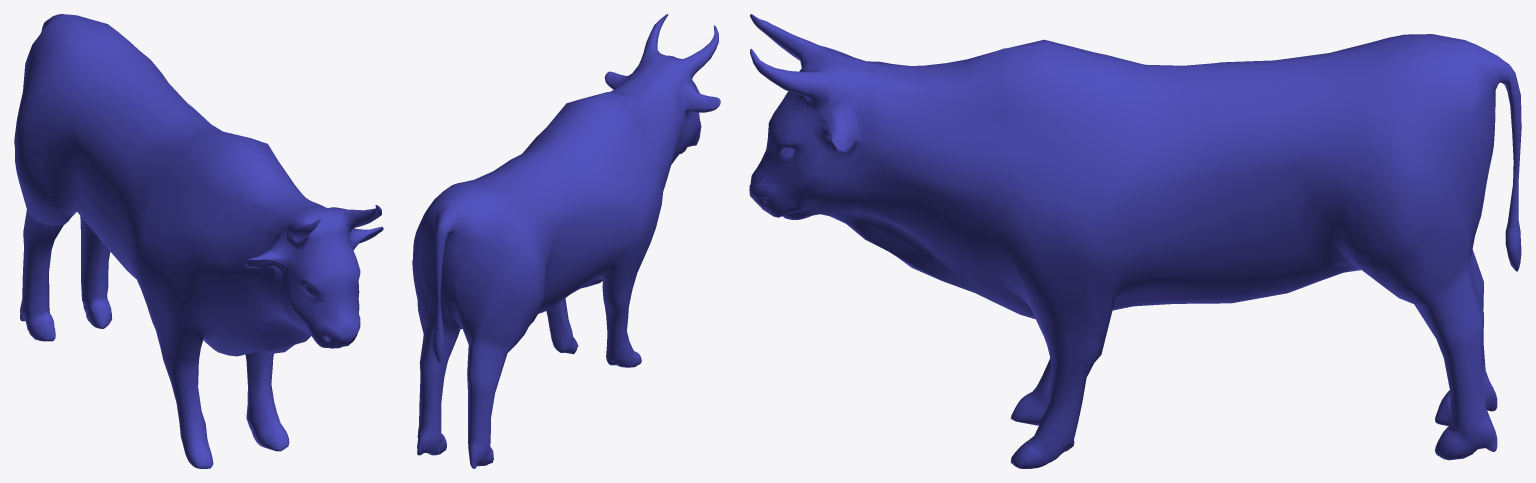
Rendered from Cow.fbx.
The picture shows the model from 3 angles, left to right: view 1: azimuth 30°, elevation 25°; view 2: azimuth 150°, elevation 25°; view 3: azimuth 270°, elevation 25°; orthographic projection. The views are drawn at different scales.
Visible parts, largest first — view 1: polySurface4.001; view 2: polySurface4.001; view 3: polySurface4.001.
Part boxes in pixels (x1=…): polySurface4.001: x1=14, y1=14, x2=383, y2=468; polySurface4.001: x1=412, y1=14, x2=720, y2=468; polySurface4.001: x1=749, y1=14, x2=1521, y2=468.
Size of the model in its own units: 278 by 559 by 953.
